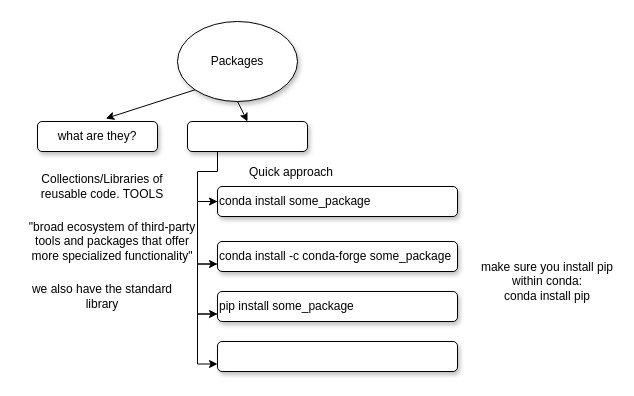
This 634x396 diagram has some shape labels left out. The centre of each missing label's shape, as x and y in pixels:
"How do we get them?" goes at (x=248, y=137).
"pip install git+git://github.com/some_package" goes at (x=338, y=357).
